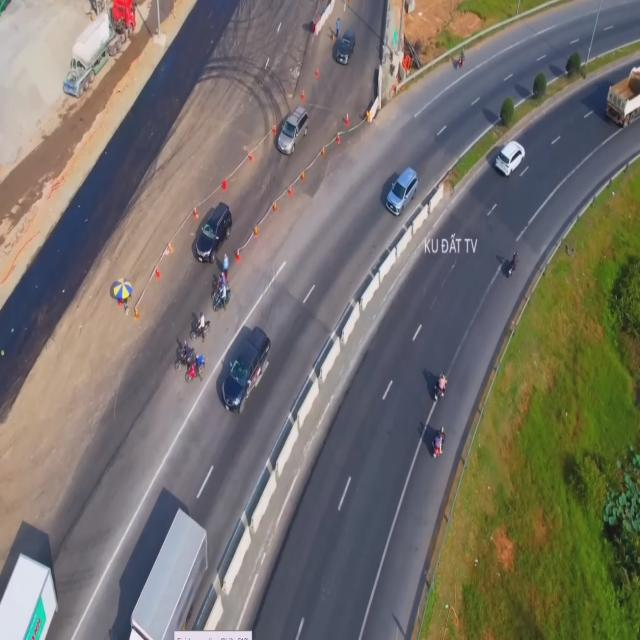car: (219, 323, 276, 420), (192, 195, 230, 270), (276, 103, 308, 160), (385, 161, 417, 216), (494, 139, 526, 178), (334, 26, 360, 68)
motorbike: (184, 355, 205, 386), (191, 316, 213, 342), (213, 284, 232, 310), (430, 430, 448, 457), (434, 374, 448, 401), (505, 253, 516, 280)
